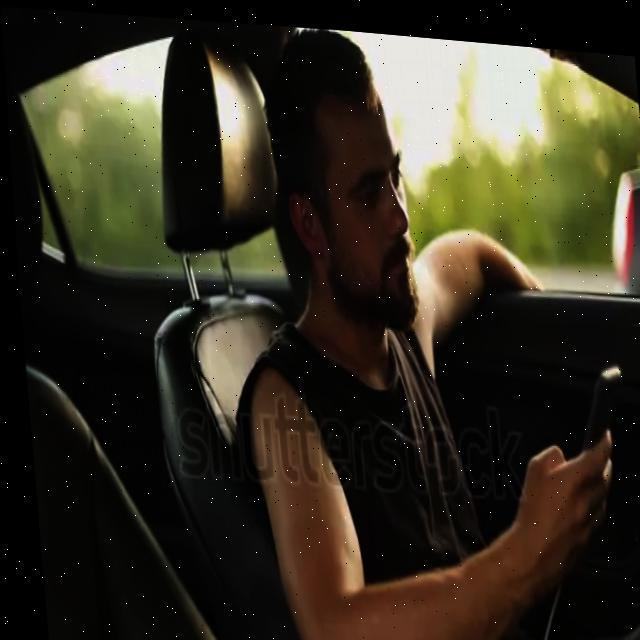PhoneCall: (567, 350, 625, 460)
